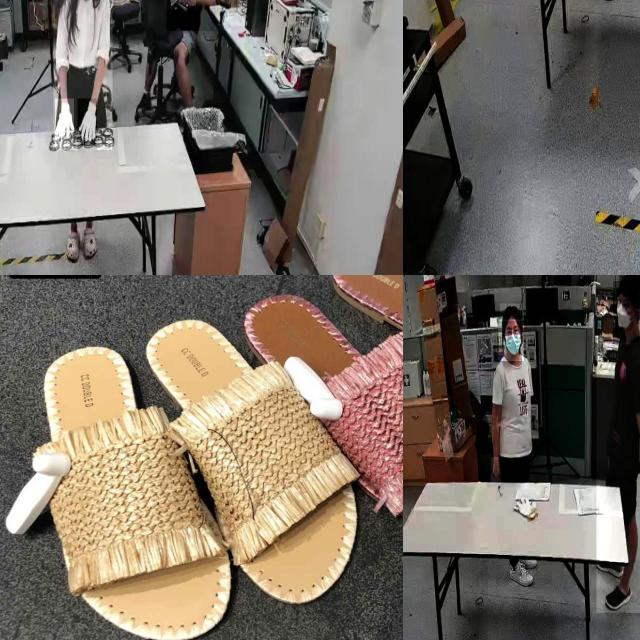Sandals: (0, 278, 381, 640), (233, 275, 403, 568)
face_mask: (613, 281, 639, 343), (498, 319, 524, 362)
hand_glove: (78, 98, 98, 152), (55, 98, 75, 148)
hand_noglove: (491, 457, 502, 483), (185, 0, 196, 6)
head_nohelmet: (500, 303, 524, 322), (619, 275, 640, 292)
person: (596, 275, 640, 613), (486, 302, 540, 488), (53, 0, 112, 151), (166, 0, 215, 32)
shoes: (508, 557, 533, 586)
